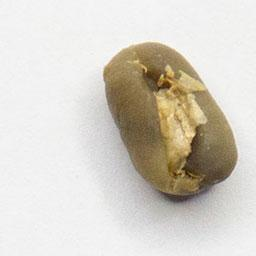peaberry: (99, 39, 240, 200)
